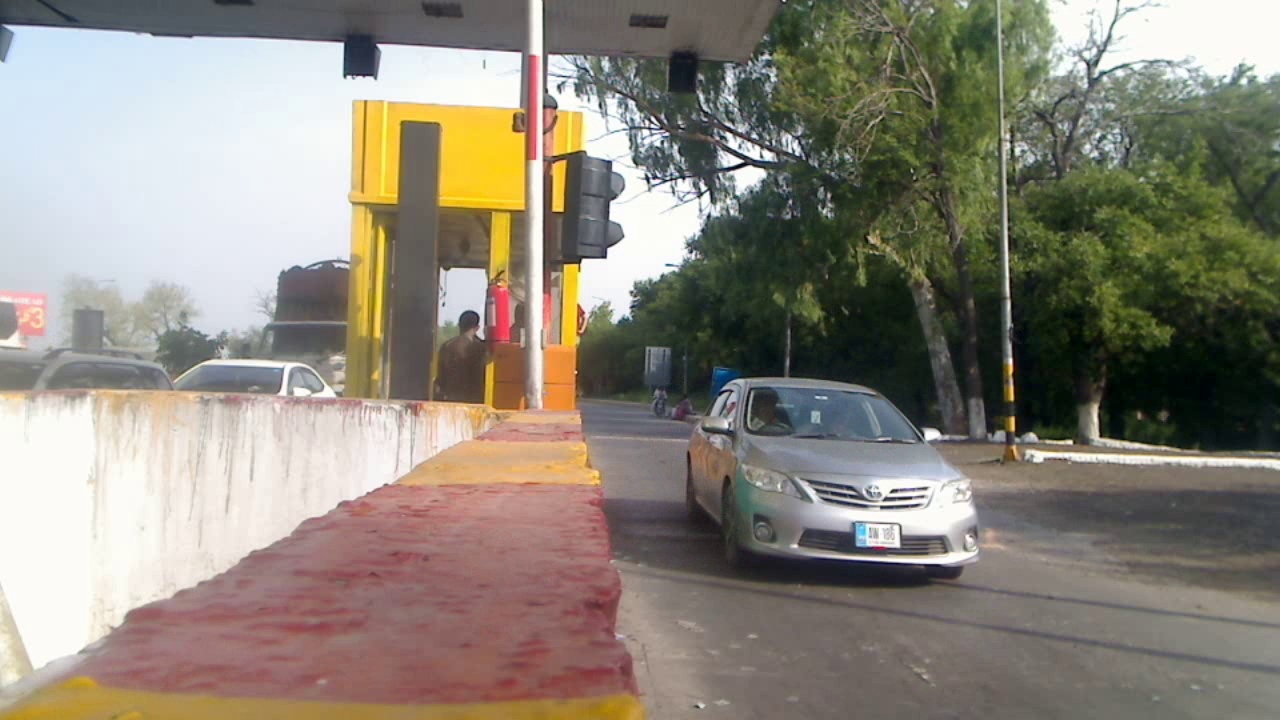Number Plate (Car): (856, 522, 900, 546)
